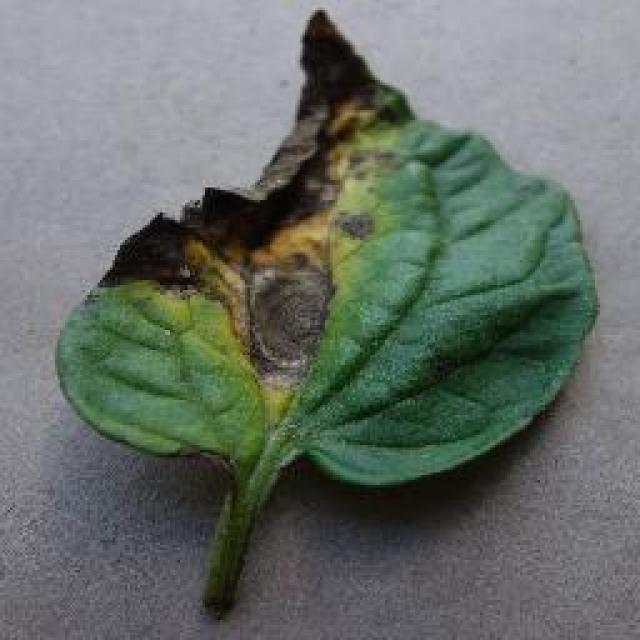Tomato Early blight leaf: (59, 18, 586, 608)
